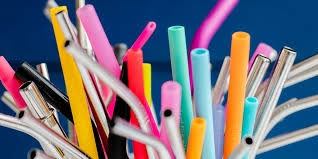plastic: (76, 1, 155, 159), (48, 4, 106, 159), (165, 24, 199, 157), (224, 28, 252, 159), (188, 46, 220, 159)
